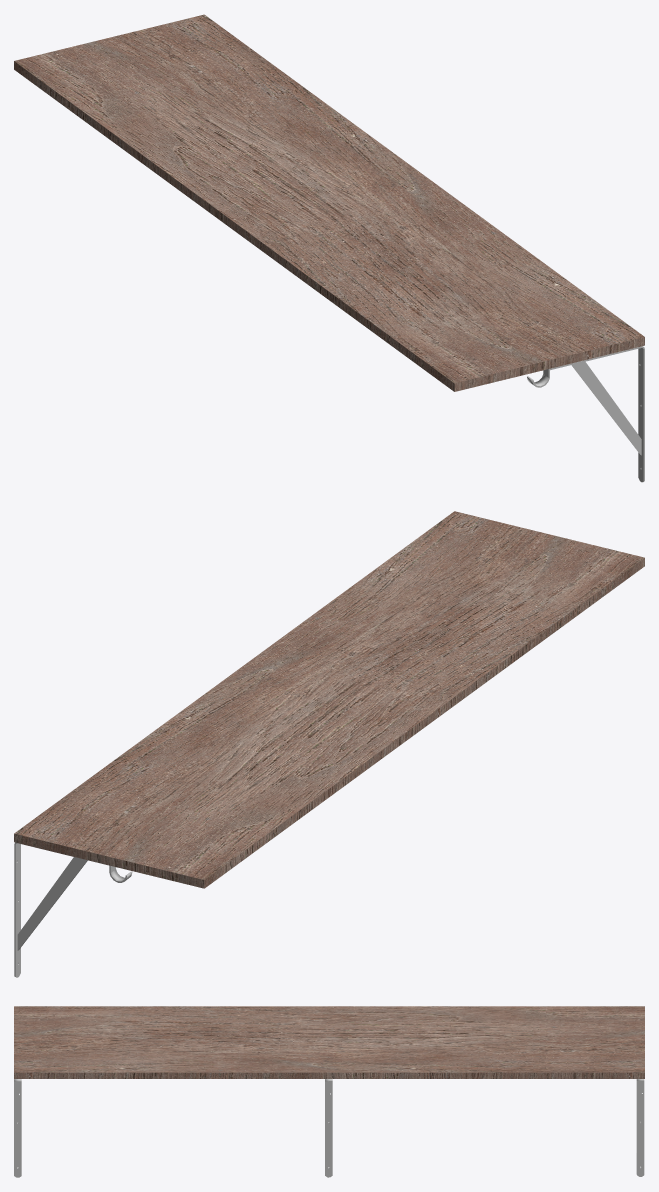
The model's file is Big shelf.fbx.
The picture shows the model from 3 angles, top to bottom: view 1: azimuth 30°, elevation 25°; view 2: azimuth 150°, elevation 25°; view 3: azimuth 270°, elevation 25°; orthographic projection. The views are drawn at different scales.
Visible parts, largest first — view 1: Big shelf; view 2: Big shelf; view 3: Big shelf.
Part boxes in pixels (box(x1,y1,x2,y2)): Big shelf: box(14, 14, 644, 482); Big shelf: box(14, 511, 644, 977); Big shelf: box(14, 1006, 644, 1177).
Bounding box in the file's own units: 43.75 × 32.2 × 175.
